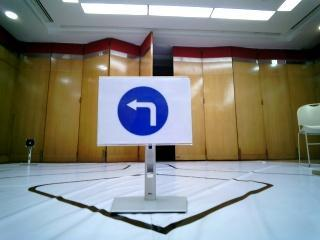left: (97, 78, 190, 143)
